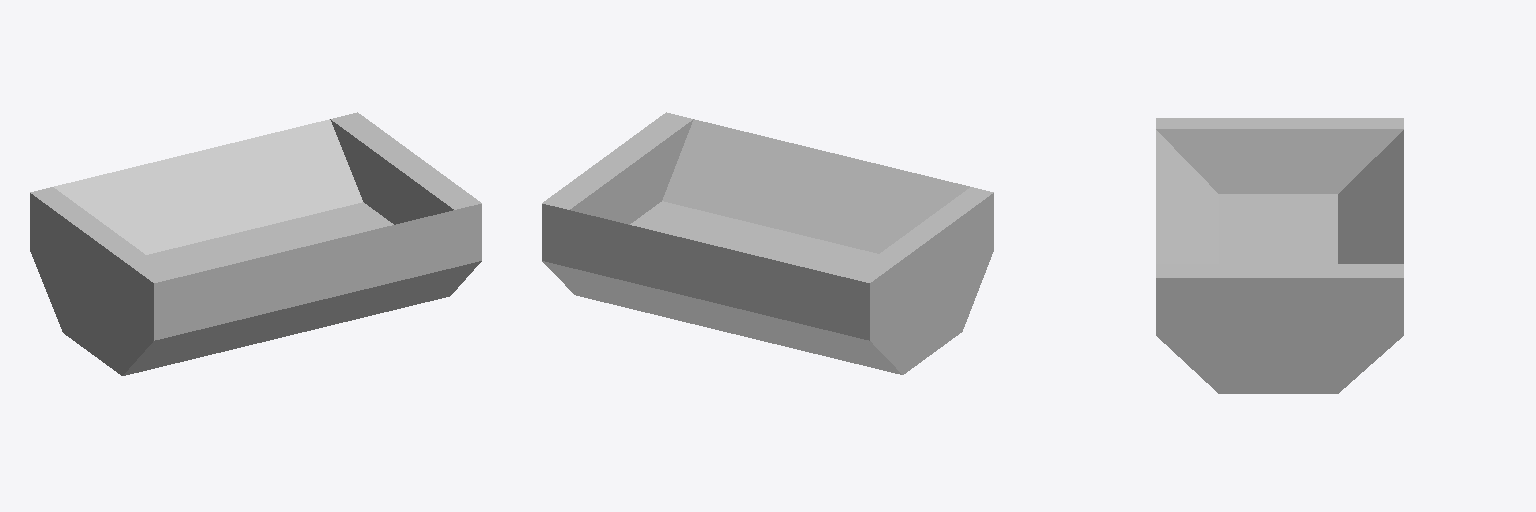
File: boat.obj
3 views of the same model, side by side, from view 1: azimuth 30°, elevation 25°; view 2: azimuth 150°, elevation 25°; view 3: azimuth 270°, elevation 25° (orthographic).
Parts seen in each view (by area): view 1: Cube; view 2: Cube; view 3: Cube.
Boxes of the visible parts, <box> form: Cube: <box>30,112,481,375</box>; Cube: <box>542,112,993,374</box>; Cube: <box>1156,118,1403,393</box>.
Size of the model in its own units: 4.88 by 1.65 by 3.2.